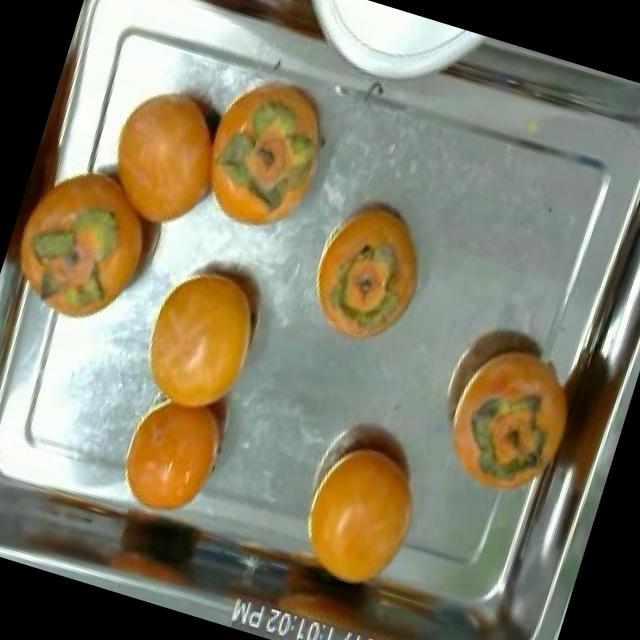Fruit: (0, 128, 193, 355), (172, 44, 356, 258), (115, 230, 288, 440), (279, 409, 445, 612), (84, 62, 246, 252), (291, 177, 449, 361), (104, 370, 247, 532)
